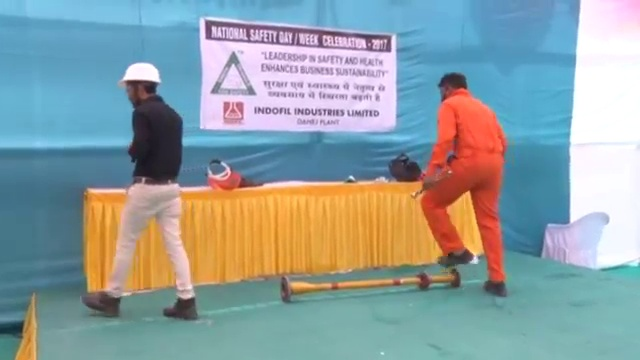helmet: (115, 61, 162, 90)
helmet_off: (436, 71, 469, 101)
helmet_on: (114, 61, 162, 107)
person: (88, 59, 201, 319), (416, 70, 514, 299)
